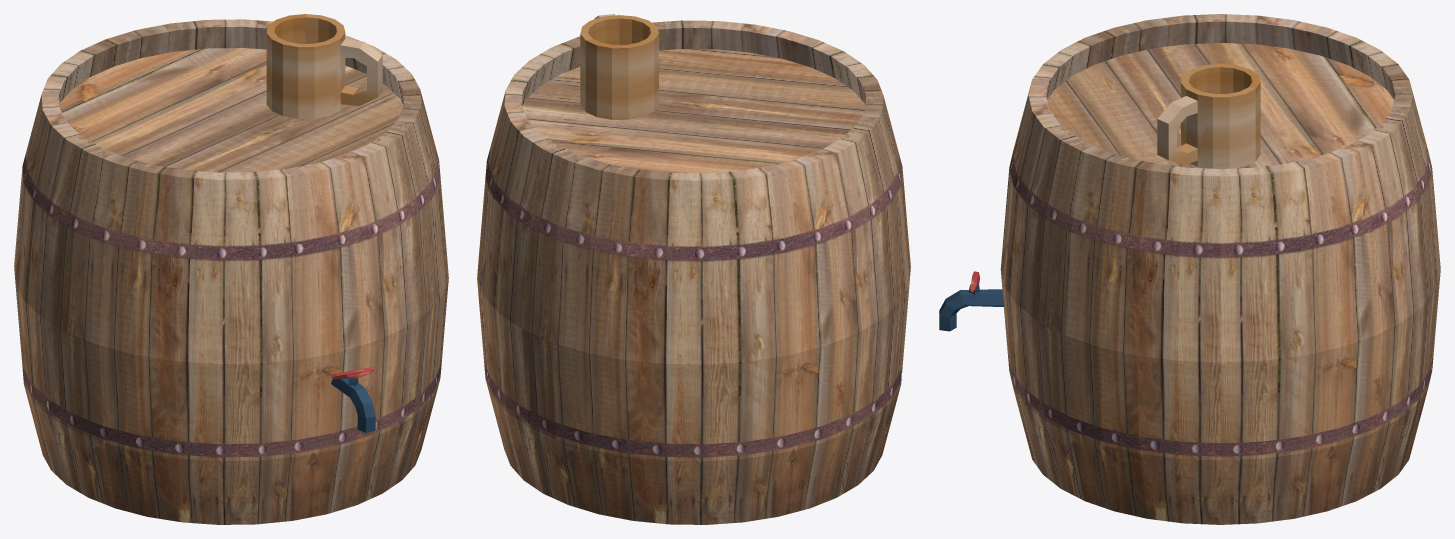
File: Beer_Barrel.glb
The picture shows the model from 3 angles, left to right: view 1: azimuth 30°, elevation 25°; view 2: azimuth 150°, elevation 25°; view 3: azimuth 270°, elevation 25°; orthographic projection.
Parts seen in each view (by area): view 1: Cube.001; view 2: Cube.001; view 3: Cube.001.
Boxes of the visible parts, left/top/right/bottom form: Cube.001: left=14, top=14, right=448, bottom=524; Cube.001: left=477, top=14, right=910, bottom=524; Cube.001: left=939, top=14, right=1440, bottom=524.
Size of the model in its own units: 1.05 by 1.05 by 1.19.
1 material, 1 textured.
